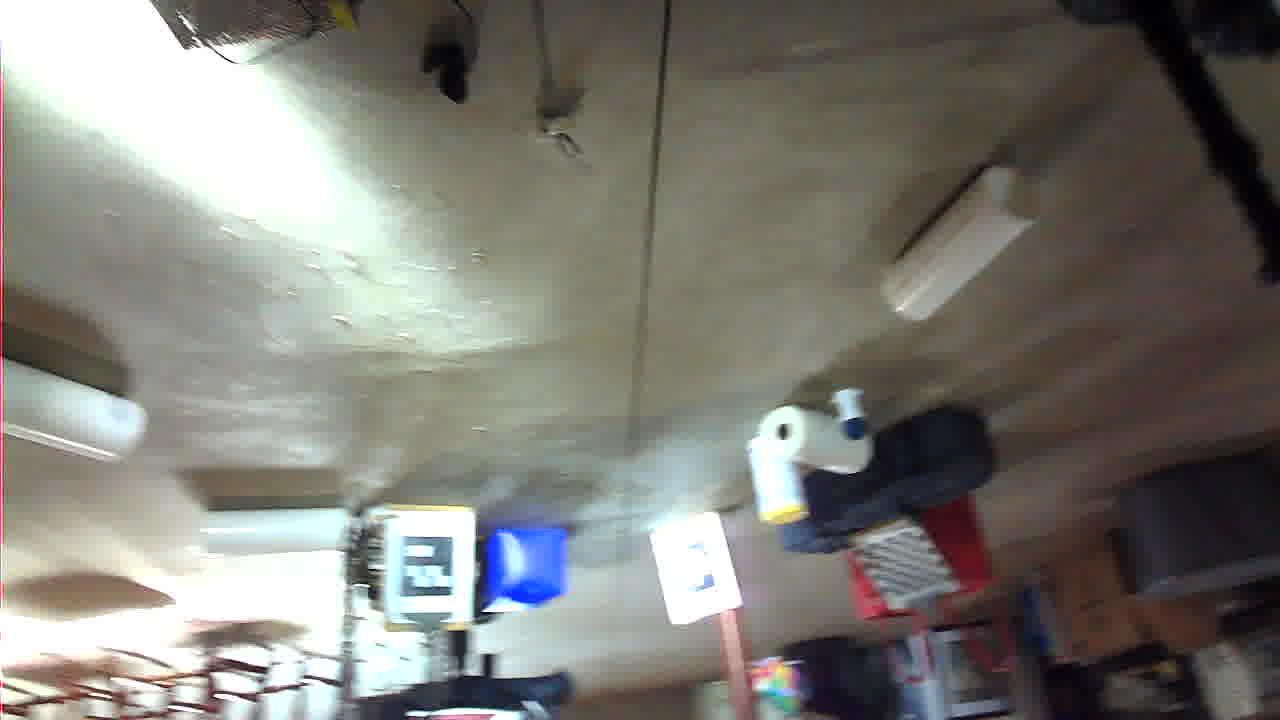coral: (233, 396, 393, 549), (1140, 262, 1280, 364), (936, 165, 1075, 213)
